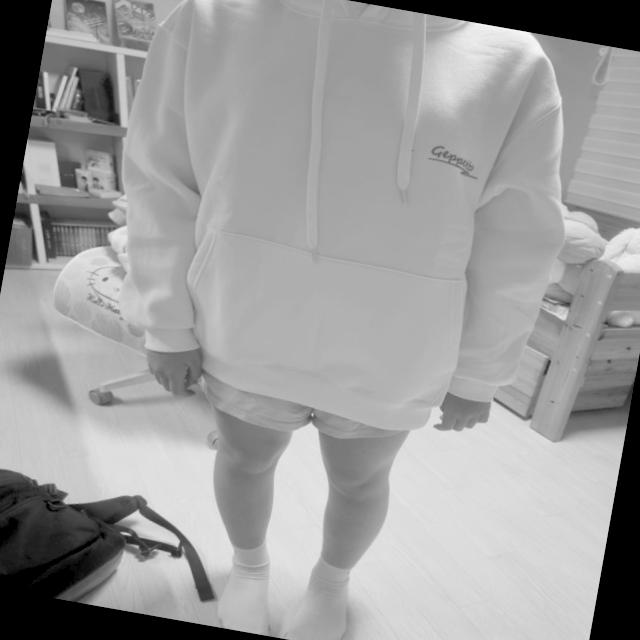hoodies: (78, 0, 610, 460)
shortpants: (192, 360, 427, 454)
